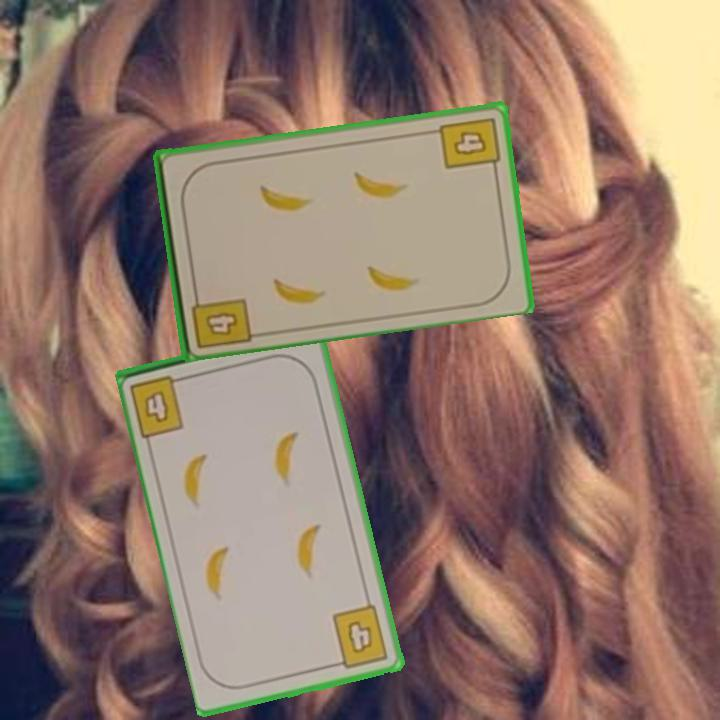4b: (126, 371, 191, 440), (329, 601, 392, 671), (187, 286, 253, 351), (436, 113, 503, 176)
